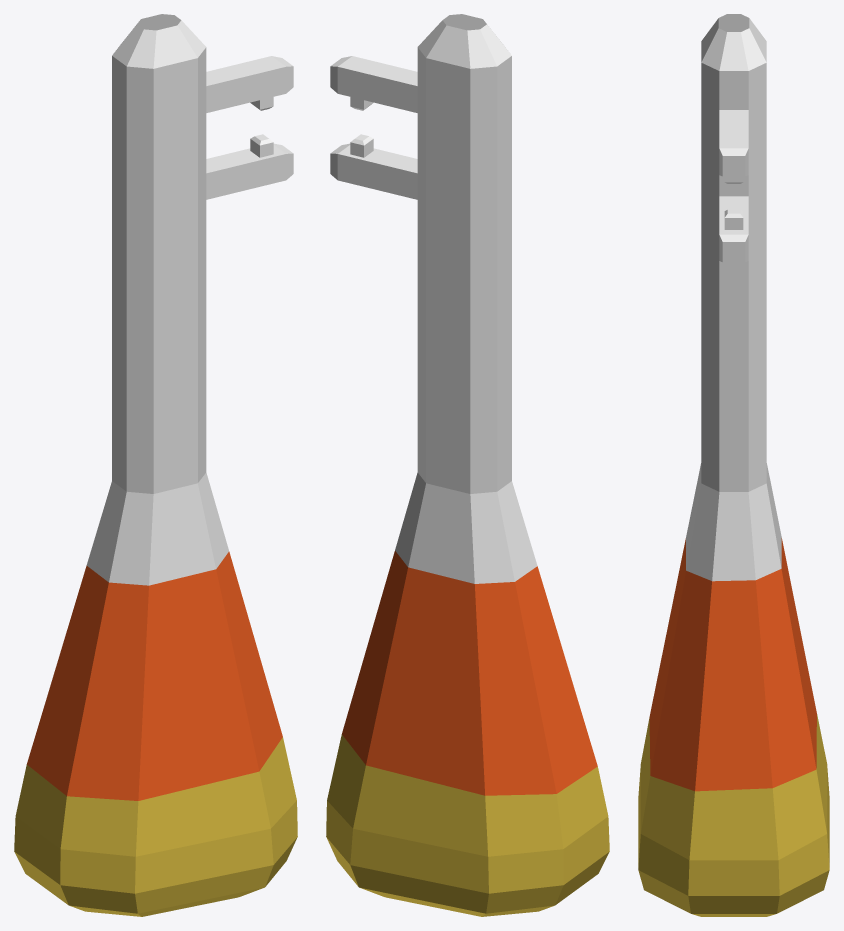
Rendered from candyCornKey.fbx.
3 views of the same model, side by side, from view 1: azimuth 30°, elevation 25°; view 2: azimuth 150°, elevation 25°; view 3: azimuth 270°, elevation 25° (orthographic).
Visible parts, largest first — view 1: candyCorn; view 2: candyCorn; view 3: candyCorn.
Part boxes in pixels (x1,y1,x2,y2): candyCorn: (14,14,297,916); candyCorn: (326,14,609,916); candyCorn: (638,14,829,916).
Bounding box in the file's own units: 1.08 × 3.54 × 0.7197.
